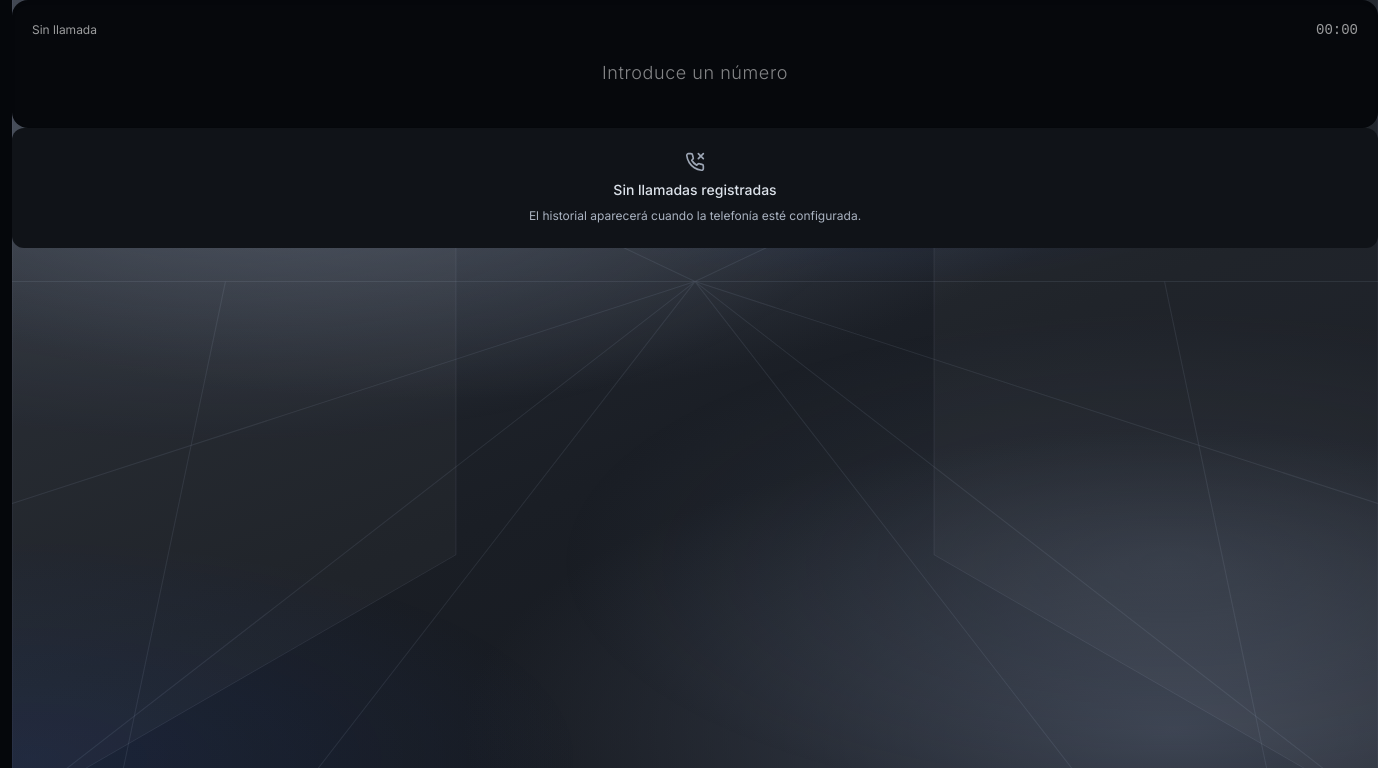
Test: the next agent does not inherit the number, calls or errors of the last one
Later steps or results of the test are not shown.
Type "71301928" into the field named "Número marcado" at (695, 70), box [32, 52, 1358, 88]
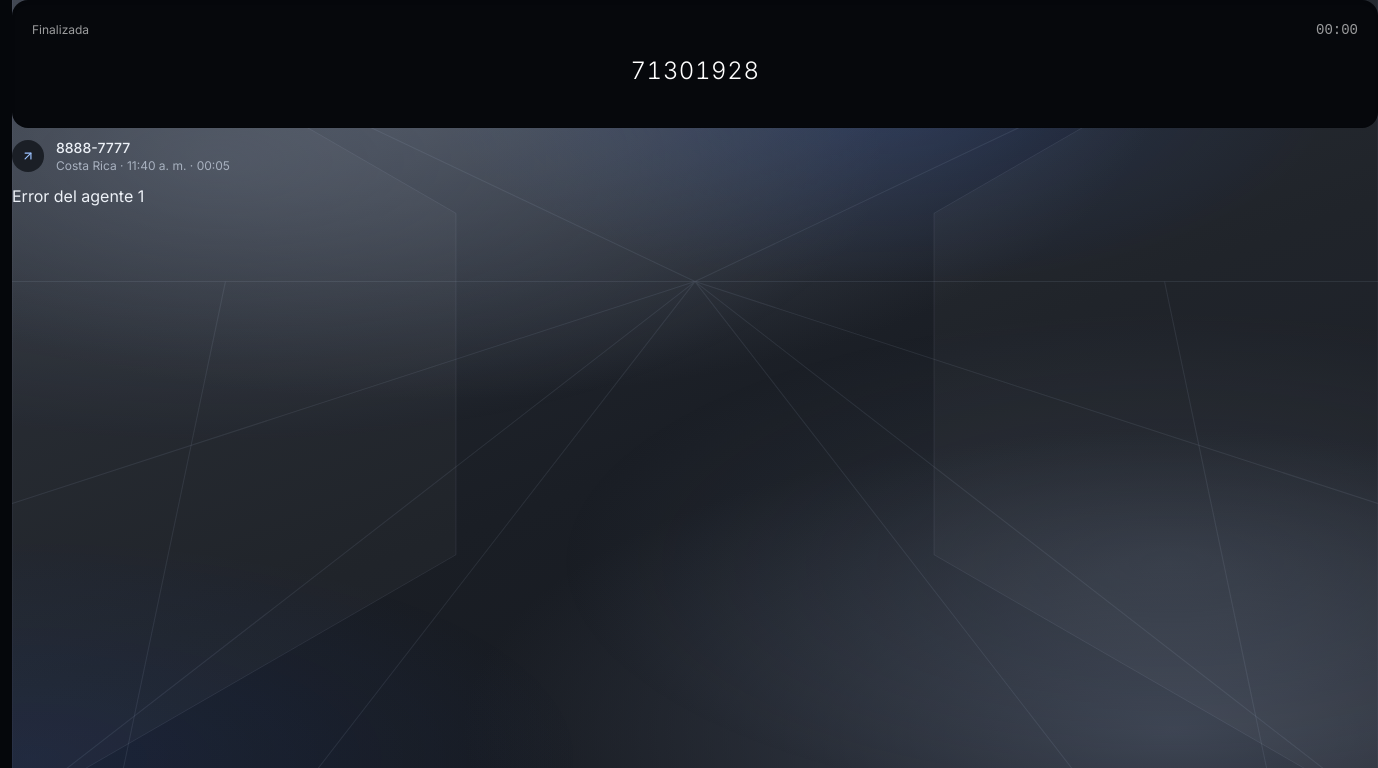
Result: the text "Sin llamadas registradas" is gone
Result: the text "Error del agente 1" is shown at [12, 186, 144, 206]
